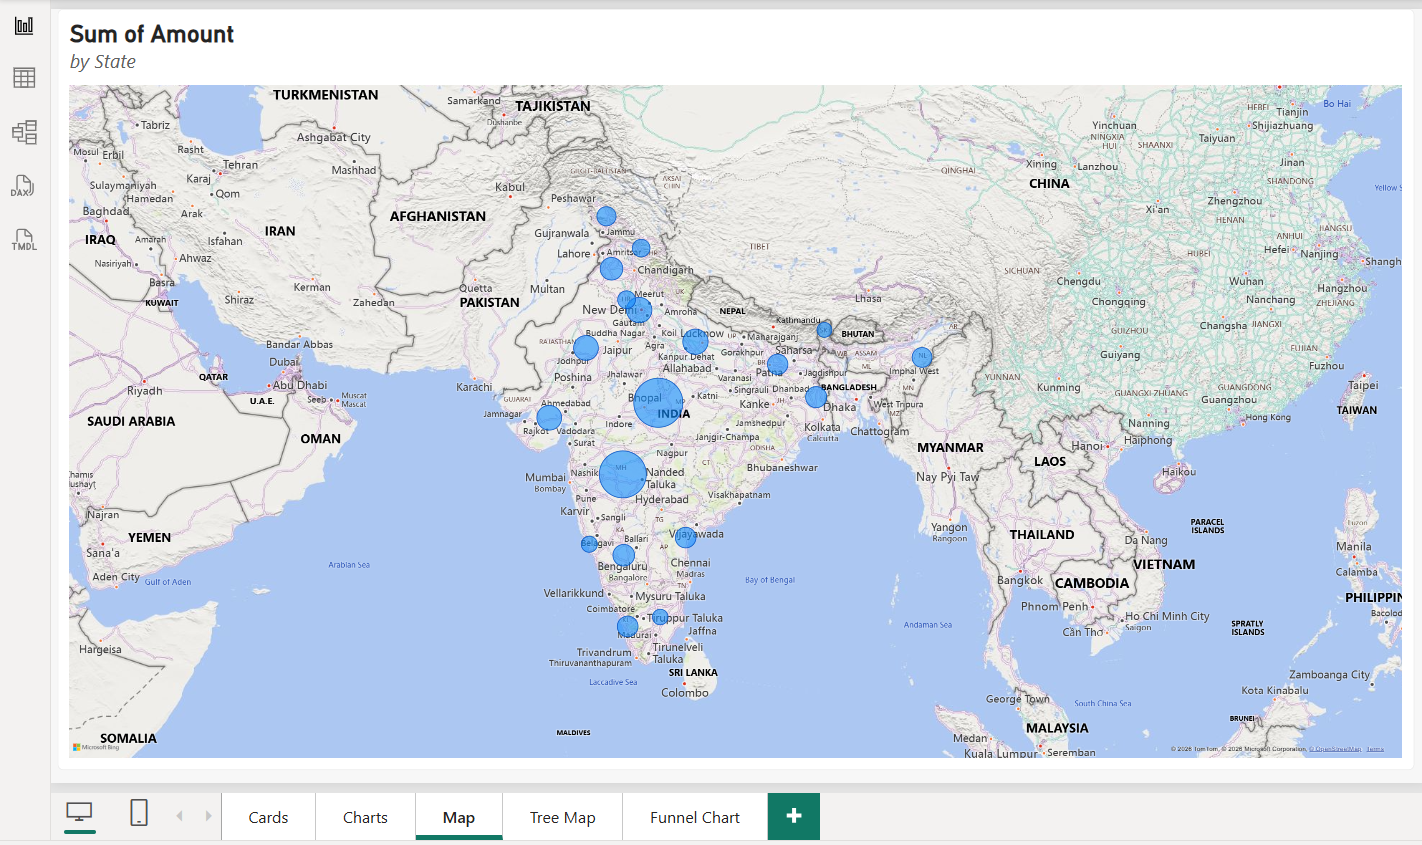

The dashboard page shown, as its layout file describes it:
{"tool":"powerbi","page":{"name":"Map","canvas":[1920,1080],"ordinal":2},"visuals":[{"type":"map","fields":{"Category":["List of Orders.State"],"Size":["Sum(Order Details.Amount)"]},"box":[9.2,0,1894,1062.2],"z":0}]}

Visuals, with their boxes on the page's 1920x1080 design canvas (x1, y1, x2, y2). These are canvas units, not pixel positions in the 1422x845 screenshot, which may show the page scaled, cropped or inside an application window:
map - List of Orders.State x Sum(Order Details.Amount): crop(9, 0, 1903, 1062)
